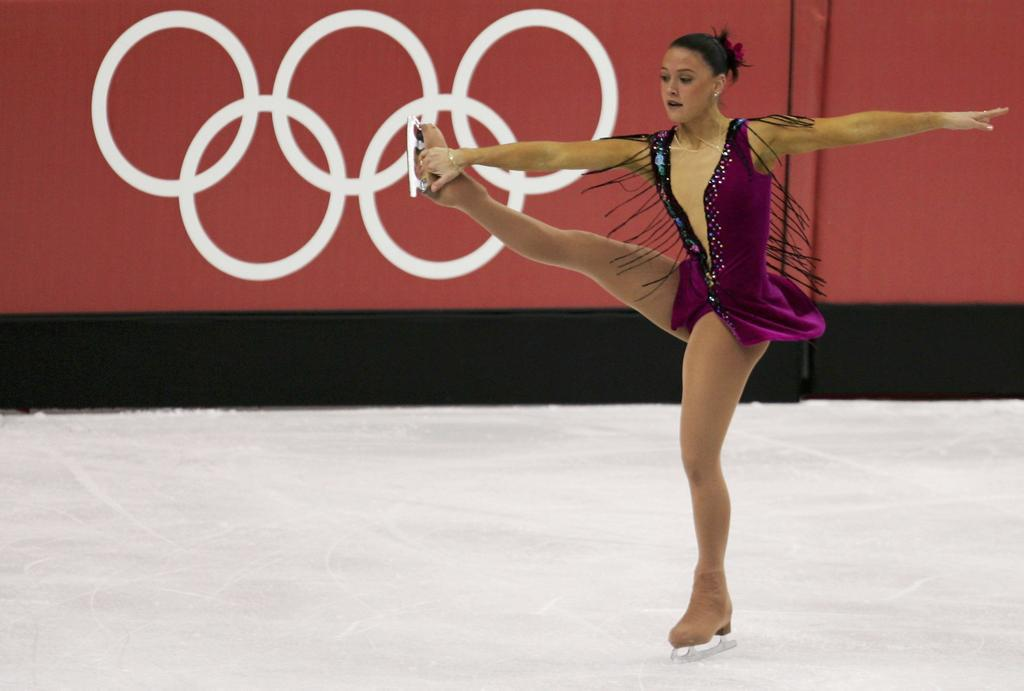face: (661, 47, 719, 125)
